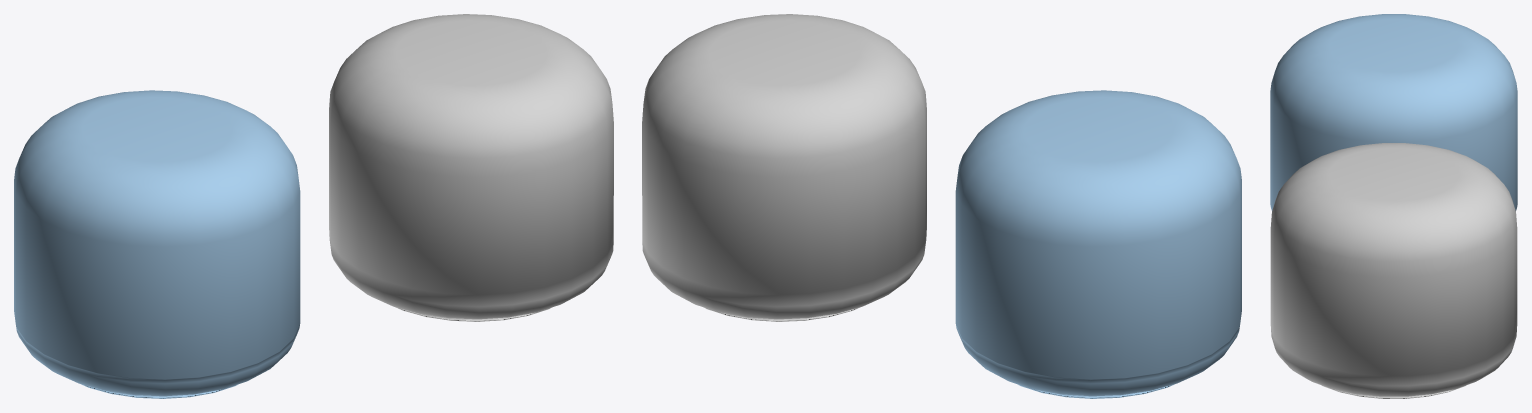
The model's file is home2.gltf.
3 renders of one model, left to right at view 1: azimuth 30°, elevation 25°; view 2: azimuth 150°, elevation 25°; view 3: azimuth 270°, elevation 25°, orthographic. The views are drawn at different scales.
Parts seen in each view (by area): view 1: Cylinder, Main; view 2: Cylinder, Main; view 3: Main, Cylinder.
Part boxes in pixels (x1,y1,x2,y2): Cylinder: (14, 90, 300, 398); Main: (329, 14, 613, 321); Cylinder: (955, 90, 1241, 398); Main: (642, 14, 926, 321); Main: (1270, 143, 1517, 398); Cylinder: (1270, 14, 1517, 210).
Size of what is drawn, in the model's own units: 5.93 by 2.26 by 2.71.
